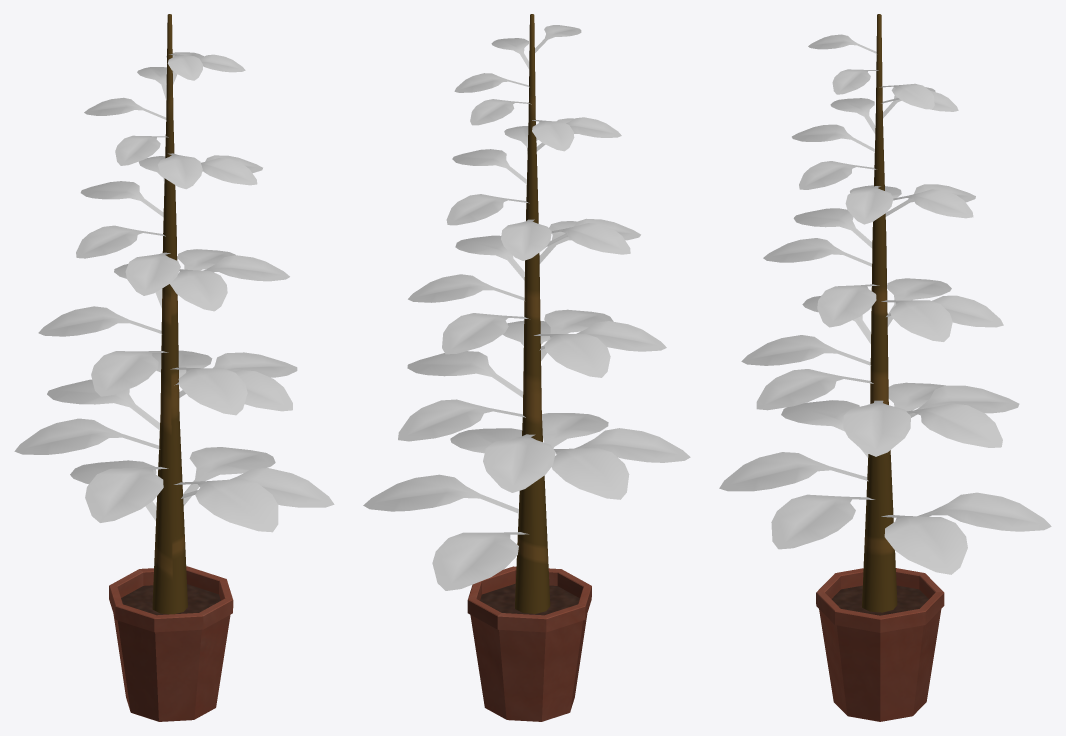
Rendered from TallPlant.fbx.
The picture shows the model from 3 angles, left to right: view 1: azimuth 30°, elevation 25°; view 2: azimuth 150°, elevation 25°; view 3: azimuth 270°, elevation 25°; orthographic projection.
Visible parts, largest first — view 1: Plane, Cylinder.004, Cylinder.003; view 2: Plane, Cylinder.004, Cylinder.003; view 3: Plane, Cylinder.004, Cylinder.003.
Boxes of the visible parts, left/top/right/bottom form: Plane: left=14, top=52, right=334, bottom=532; Cylinder.004: left=109, top=566, right=233, bottom=721; Cylinder.003: left=152, top=14, right=187, bottom=614; Plane: left=363, top=25, right=690, bottom=590; Cylinder.004: left=467, top=566, right=591, bottom=721; Cylinder.003: left=515, top=14, right=550, bottom=613; Plane: left=719, top=34, right=1051, bottom=574; Cylinder.004: left=816, top=568, right=944, bottom=721; Cylinder.003: left=862, top=14, right=897, bottom=612.
Bounding box in the file's own units: 93.75 × 242 × 106.
